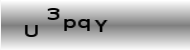3: (46, 7, 59, 21)
U: (23, 23, 39, 38)
Y: (93, 19, 109, 32)
p: (61, 18, 77, 33)
q: (77, 18, 91, 32)
